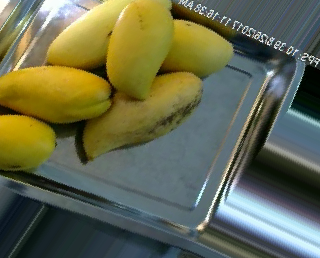Mango: (78, 64, 215, 170), (41, 0, 172, 73), (0, 61, 113, 125), (103, 0, 174, 100), (149, 21, 237, 81), (0, 105, 61, 172)
